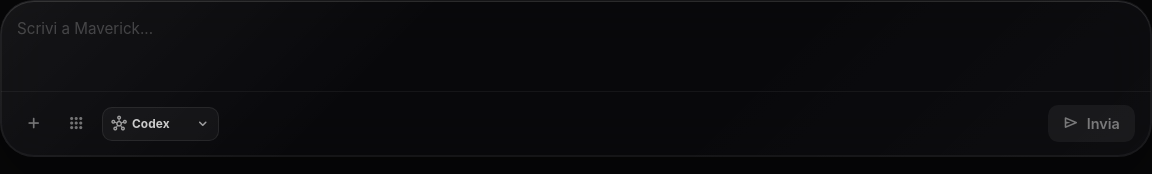
Test: ChatComposer reference search › loads checklist entities when the toolbar app picker opens
The image size is (1152, 174).
Step 1. Click the button named "App citabili" → (76, 124), box [59,107,93,140]
Wait 180 ms
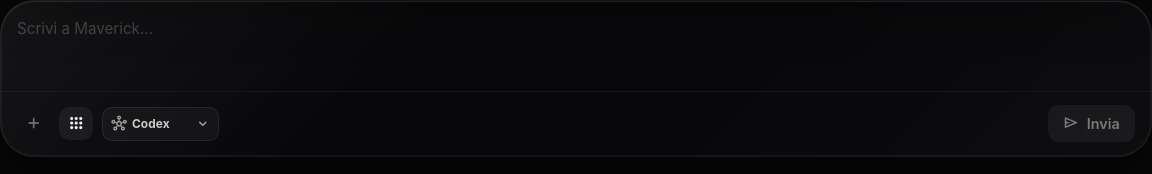
Expected: the text "@Link checklist nella chat con @" is shown
